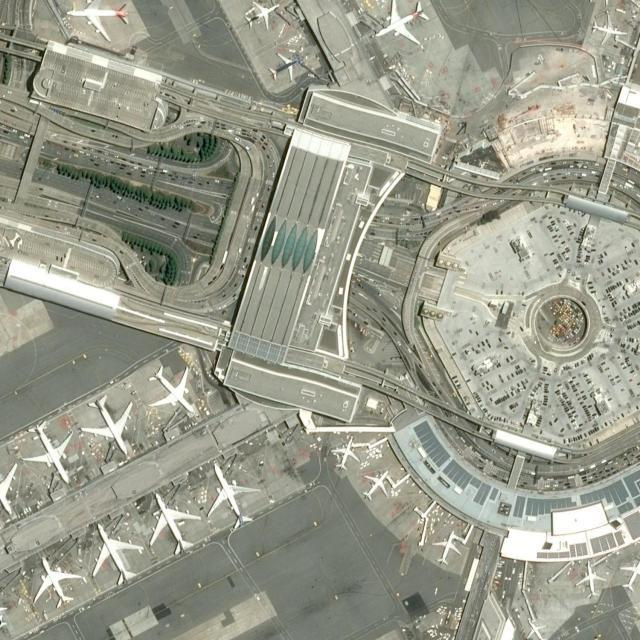Aircraft: (207, 463, 261, 532), (80, 396, 134, 458), (92, 524, 144, 588), (150, 494, 202, 558), (21, 421, 73, 485), (66, 1, 131, 44), (32, 557, 82, 611), (147, 364, 196, 416), (375, 1, 429, 46), (591, 12, 627, 46), (575, 562, 607, 600), (432, 530, 462, 568), (268, 52, 303, 82), (331, 436, 361, 471), (0, 462, 18, 518), (243, 2, 279, 30), (361, 469, 389, 501), (619, 555, 640, 594), (526, 618, 550, 640)
